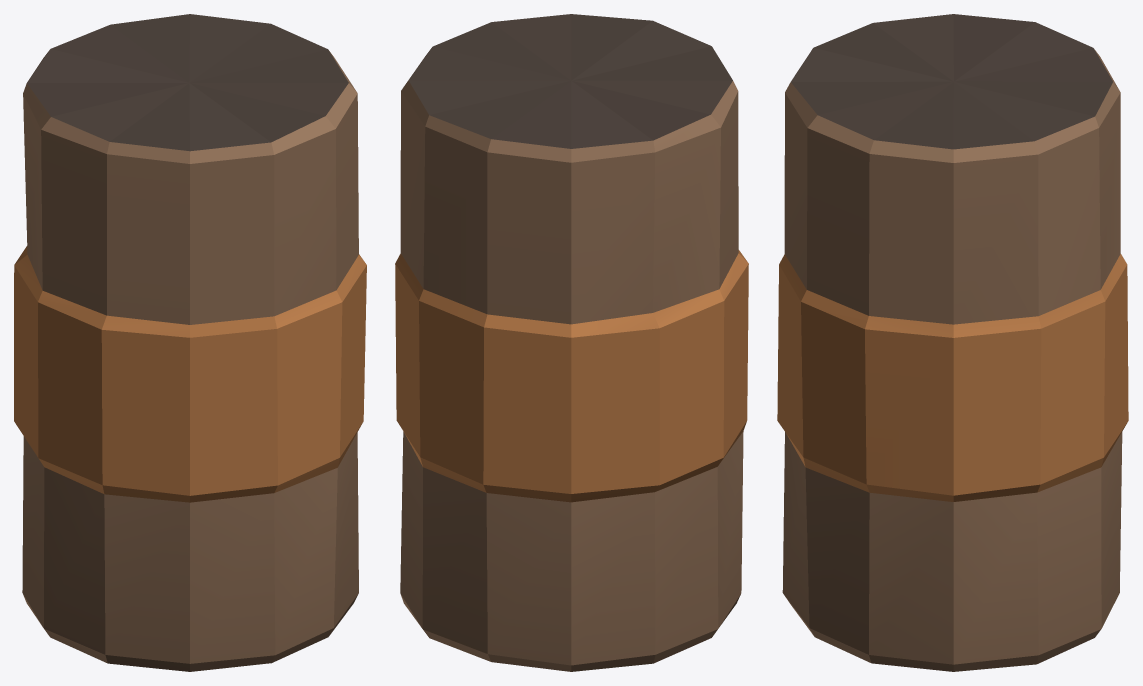
Rendered from obj_barriles.glb.
The picture shows the model from 3 angles, left to right: view 1: azimuth 30°, elevation 25°; view 2: azimuth 150°, elevation 25°; view 3: azimuth 270°, elevation 25°; orthographic projection.
Parts seen in each view (by area): view 1: propforge-libre-barriles; view 2: propforge-libre-barriles; view 3: propforge-libre-barriles.
Part boxes in pixels (x1,y1,x2,y2): propforge-libre-barriles: (14, 14, 366, 671); propforge-libre-barriles: (395, 14, 748, 671); propforge-libre-barriles: (777, 14, 1128, 671).
Size of the model in its own units: 0.2856 by 0.4654 by 0.2841.
